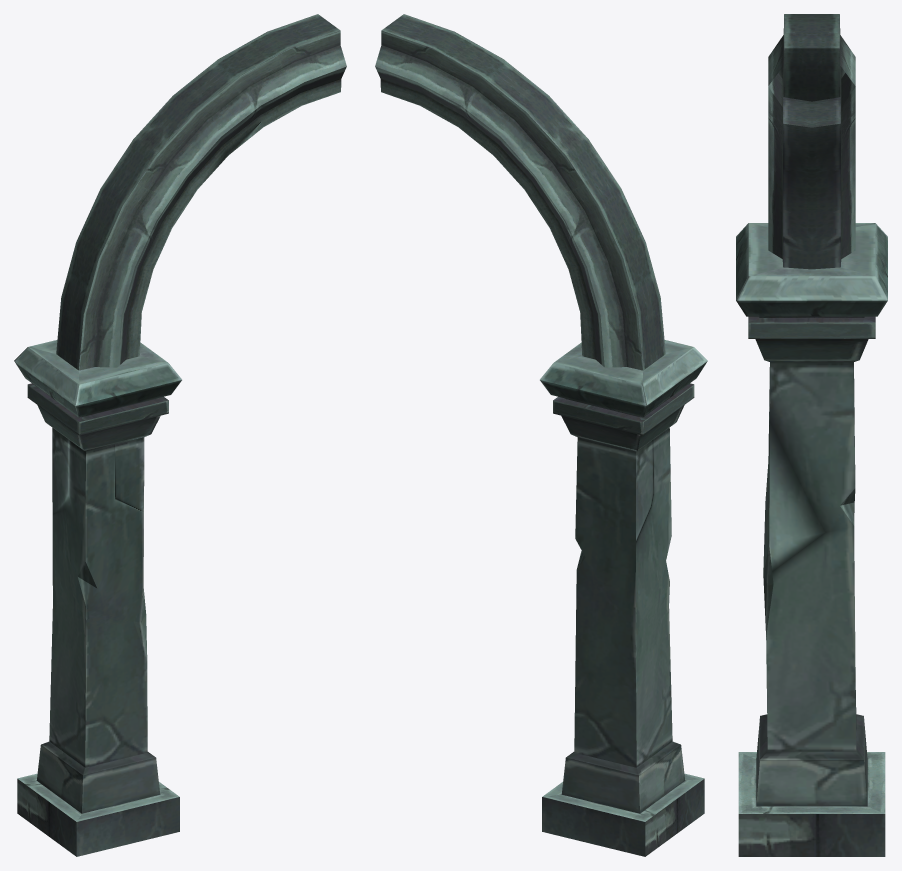
Rendered from crypt_pillar_arch_01.fbx.
3 renders of one model, left to right at view 1: azimuth 30°, elevation 25°; view 2: azimuth 150°, elevation 25°; view 3: azimuth 270°, elevation 25°, orthographic. The views are drawn at different scales.
Parts seen in each view (by area): view 1: crypt_pillar_arch_01-0; view 2: crypt_pillar_arch_01-0; view 3: crypt_pillar_arch_01-0.
Boxes of the visible parts, left/top/right/bottom form: crypt_pillar_arch_01-0: left=14, top=14, right=346, bottom=856; crypt_pillar_arch_01-0: left=375, top=14, right=707, bottom=856; crypt_pillar_arch_01-0: left=736, top=14, right=887, bottom=856.
Size of the model in its own units: 7.38 by 18.45 by 2.77.
